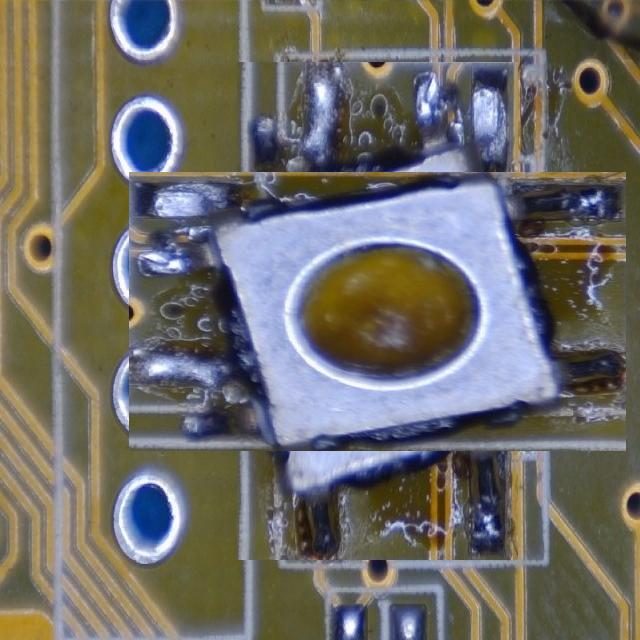Incorrect_installation: (130, 172, 626, 451)
